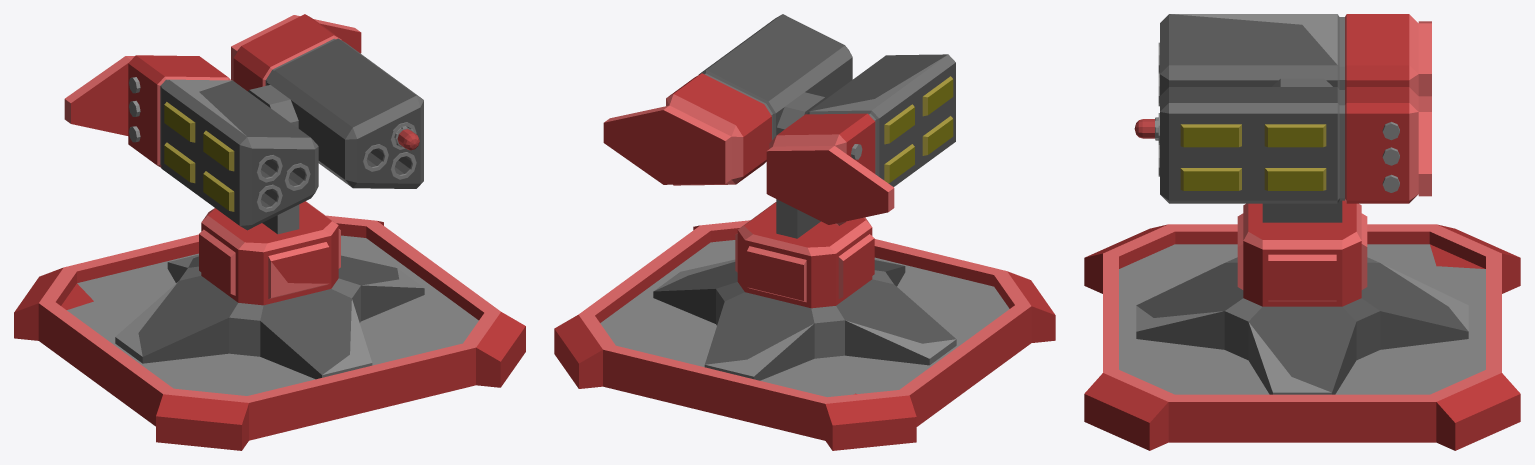
The model's file is tower_rocket_red_2.fbx.
The picture shows the model from 3 angles, left to right: view 1: azimuth 30°, elevation 25°; view 2: azimuth 150°, elevation 25°; view 3: azimuth 270°, elevation 25°; orthographic projection. The views are drawn at different scales.
Parts seen in each view (by area): view 1: top_rocket_red_2, tower_rocket_red_2; view 2: top_rocket_red_2, tower_rocket_red_2; view 3: top_rocket_red_2, tower_rocket_red_2, rocket_red_2.
Part boxes in pixels (x1=…): top_rocket_red_2: x1=64, y1=14, x2=424, y2=379; tower_rocket_red_2: x1=14, y1=215, x2=525, y2=450; top_rocket_red_2: x1=603, y1=14, x2=956, y2=380; tower_rocket_red_2: x1=554, y1=220, x2=1055, y2=450; top_rocket_red_2: x1=1136, y1=14, x2=1468, y2=394; tower_rocket_red_2: x1=1084, y1=224, x2=1520, y2=450; rocket_red_2: x1=1134, y1=117, x2=1158, y2=140.
Bounding box in the file's own units: 173 × 123 × 164.
